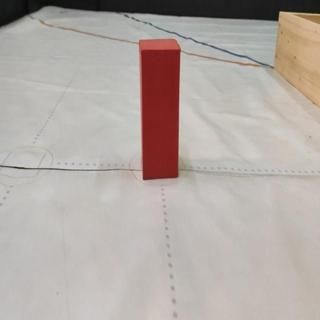redbox: (138, 37, 182, 180)
